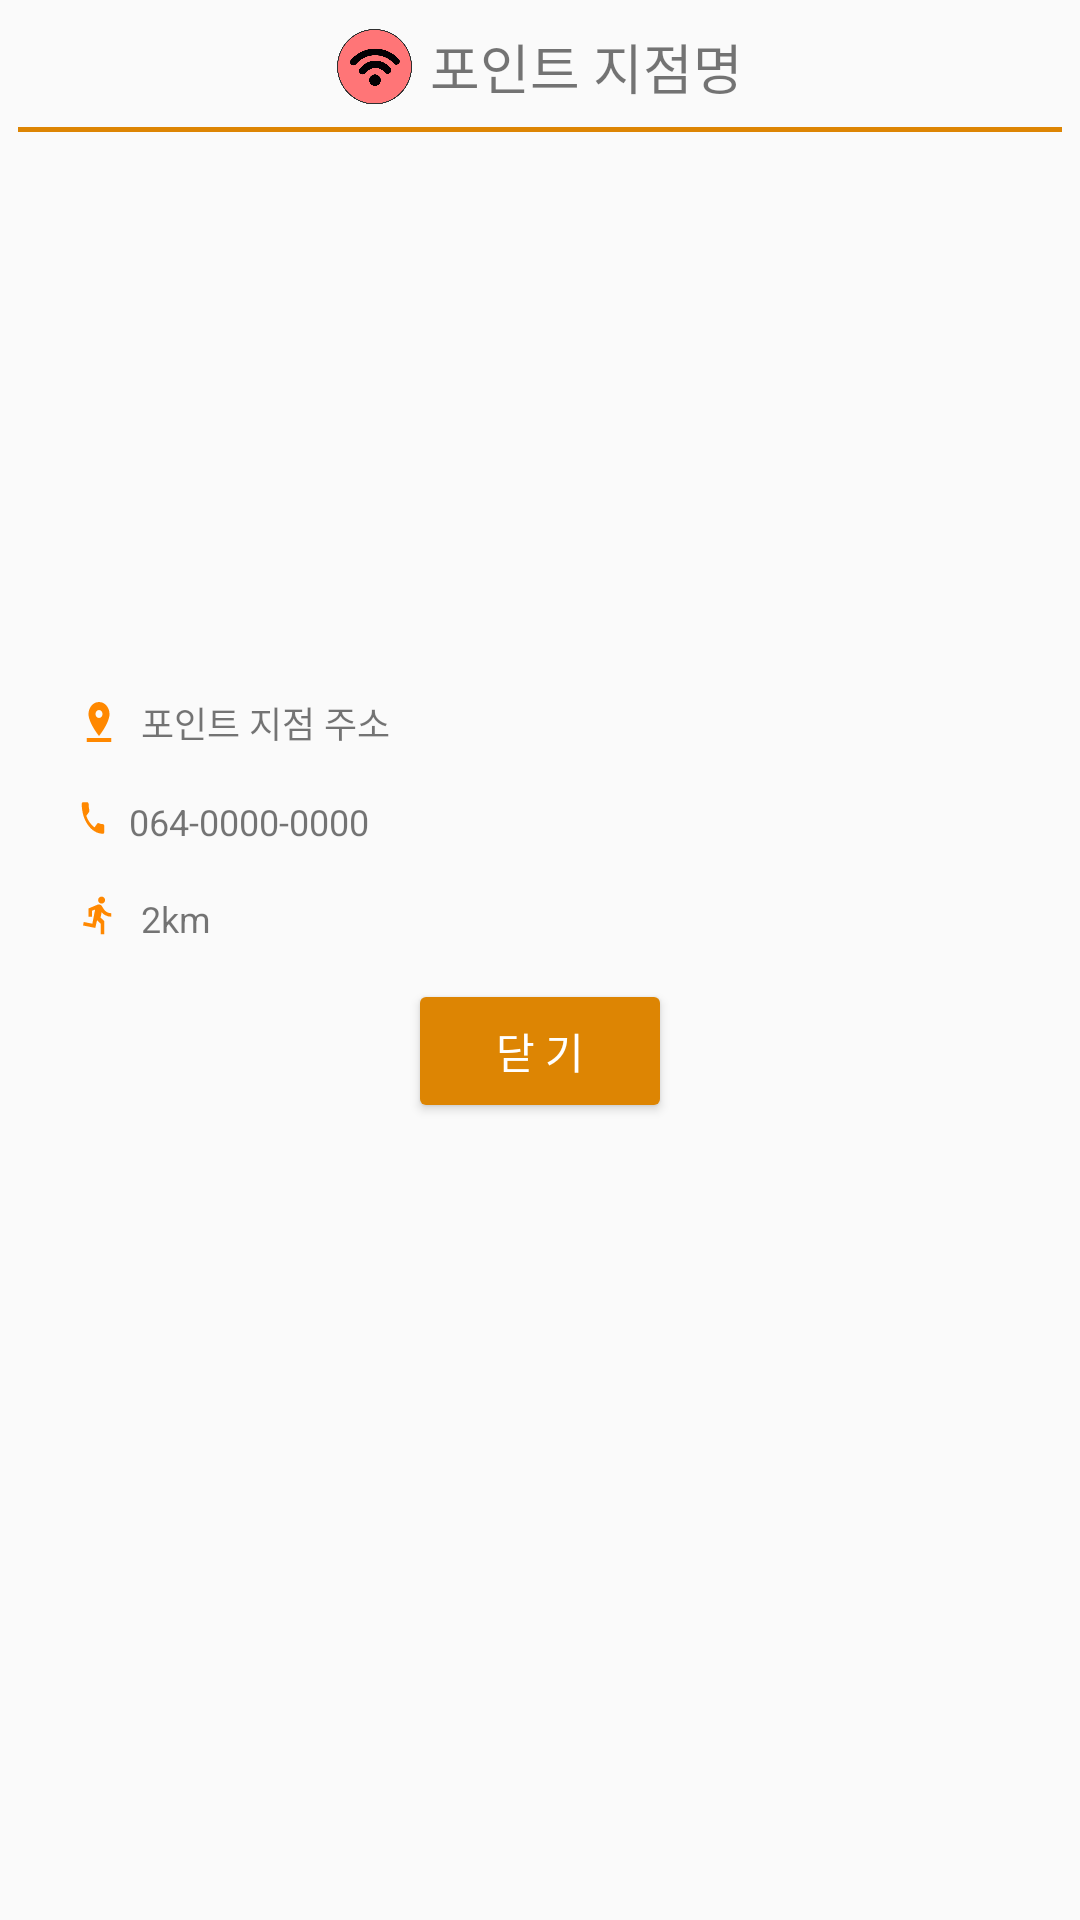

Where to tap for icons on this 1080px x 1920px app screen, as (x=x, y=y):
info distance: (x=97, y=915)
info location: (x=99, y=722)
info phone: (x=93, y=818)
wifi: (x=374, y=66)
